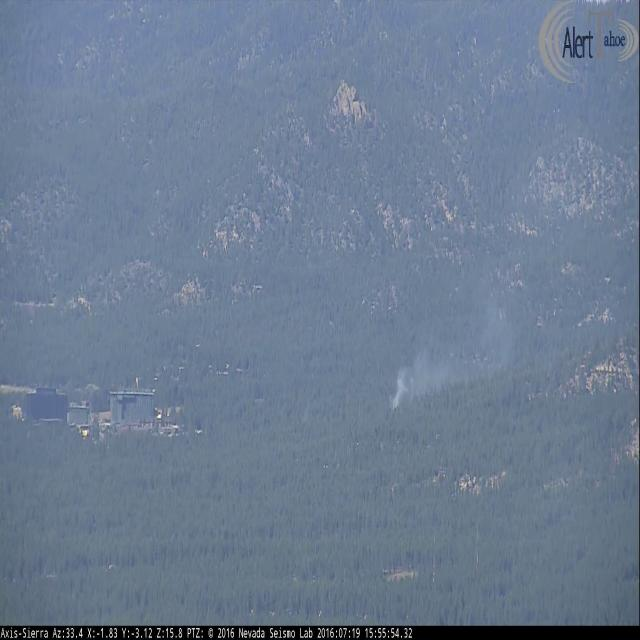smoke: (392, 278, 518, 410)
